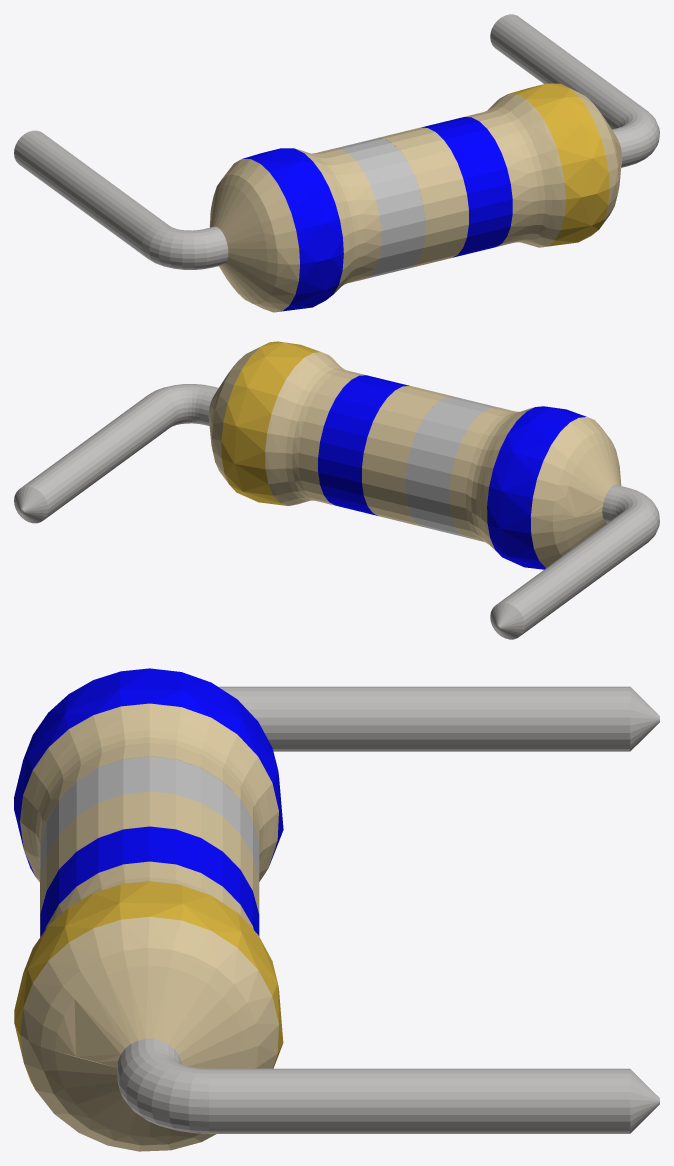
Rendered from Yageo CFR-25 Resistor Axial P7.62mm 68,0 MOhm.obj.
The picture shows the model from 3 angles, top to bottom: view 1: azimuth 30°, elevation 25°; view 2: azimuth 150°, elevation 25°; view 3: azimuth 270°, elevation 25°; orthographic projection. The views are drawn at different scales.
Visible parts, largest first — view 1: Yageo_CFR-25_Resistor_Axial_P7.62mm_68,0_MOhm; view 2: Yageo_CFR-25_Resistor_Axial_P7.62mm_68,0_MOhm; view 3: Yageo_CFR-25_Resistor_Axial_P7.62mm_68,0_MOhm.
Boxes of the visible parts, x1,y1,x2,y2 form: Yageo_CFR-25_Resistor_Axial_P7.62mm_68,0_MOhm: (14,14,659,312); Yageo_CFR-25_Resistor_Axial_P7.62mm_68,0_MOhm: (14,341,659,639); Yageo_CFR-25_Resistor_Axial_P7.62mm_68,0_MOhm: (14,668,659,1151).
Bounding box in the file's own units: 0.0217 × 0.00599 × 0.0145.
